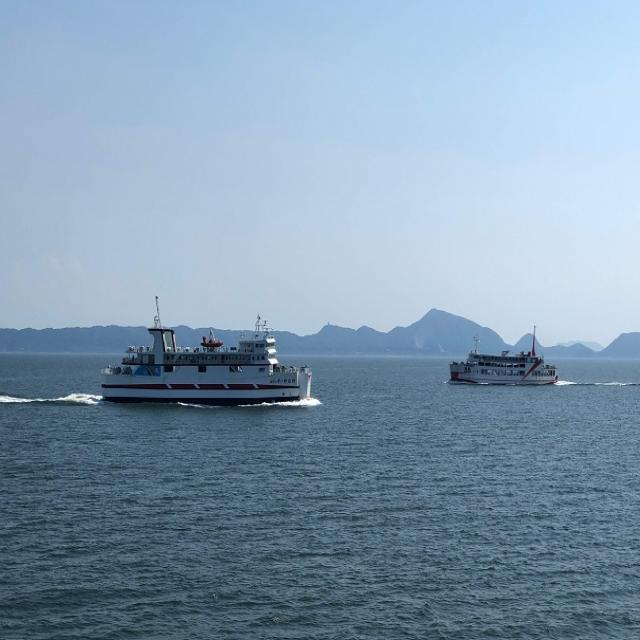fishing boat: (97, 319, 312, 413), (436, 313, 576, 382)
